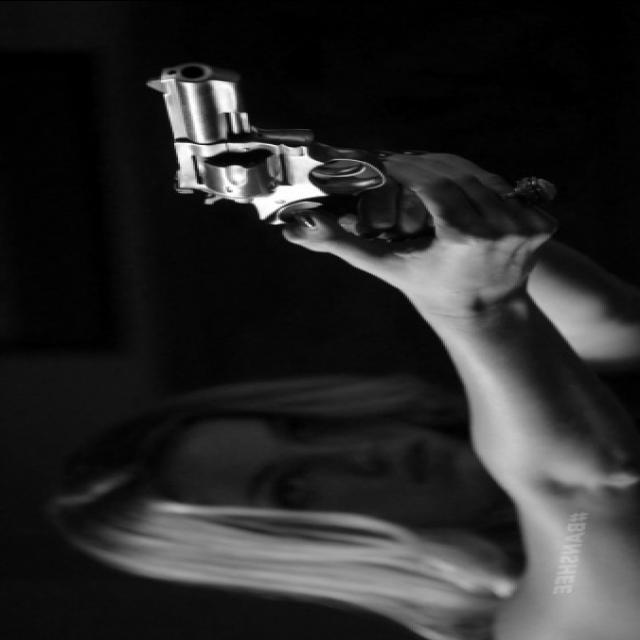weapons: (140, 56, 434, 245)
